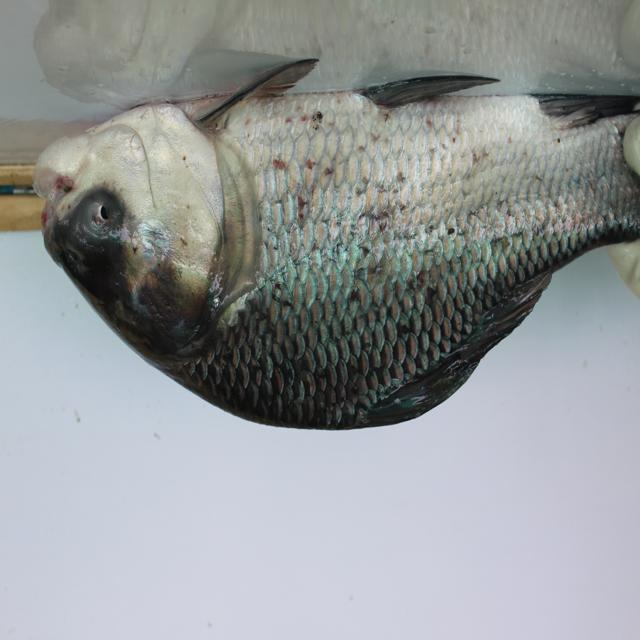Catla: (16, 55, 640, 436)
